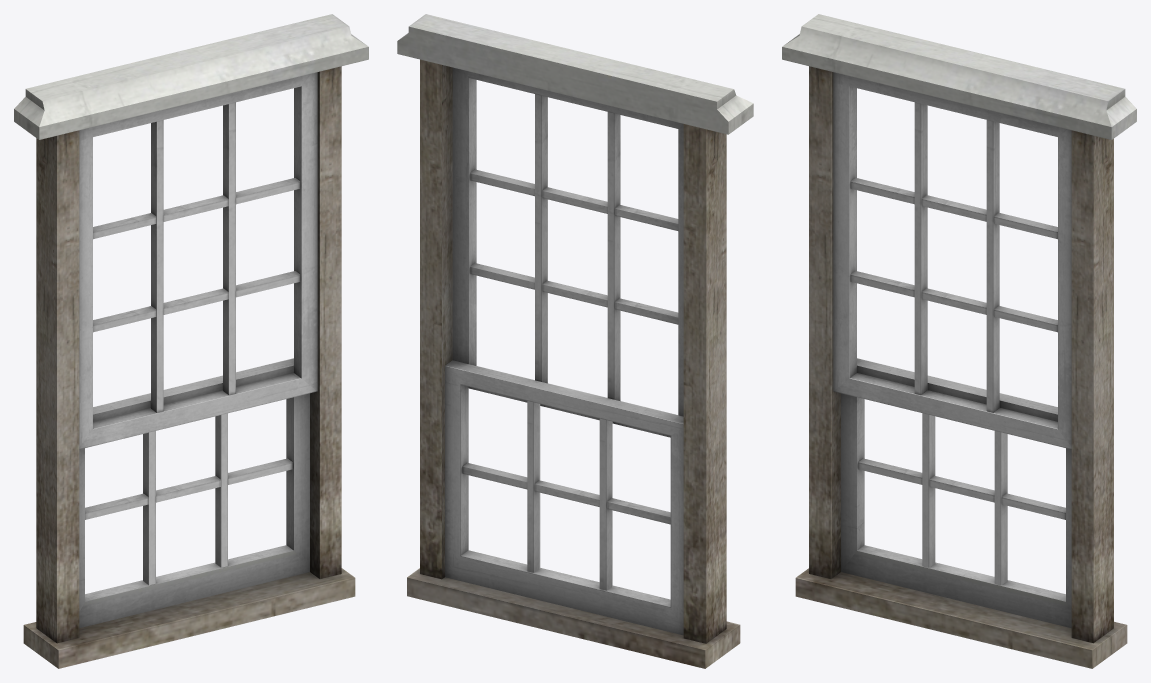
Rendered from Window_03_open.FBX.
3 renders of one model, left to right at view 1: azimuth 30°, elevation 25°; view 2: azimuth 150°, elevation 25°; view 3: azimuth 330°, elevation 25°, orthographic.
Visible parts, largest first — view 1: WindowFrame_03; view 2: WindowFrame_03; view 3: WindowFrame_03.
Boxes of the visible parts, box(x1,y1,x2,y2) form: WindowFrame_03: box(14, 14, 368, 668); WindowFrame_03: box(397, 14, 753, 668); WindowFrame_03: box(782, 14, 1136, 668).
Size of the model in its own units: 74.11 by 120 by 13.55.
